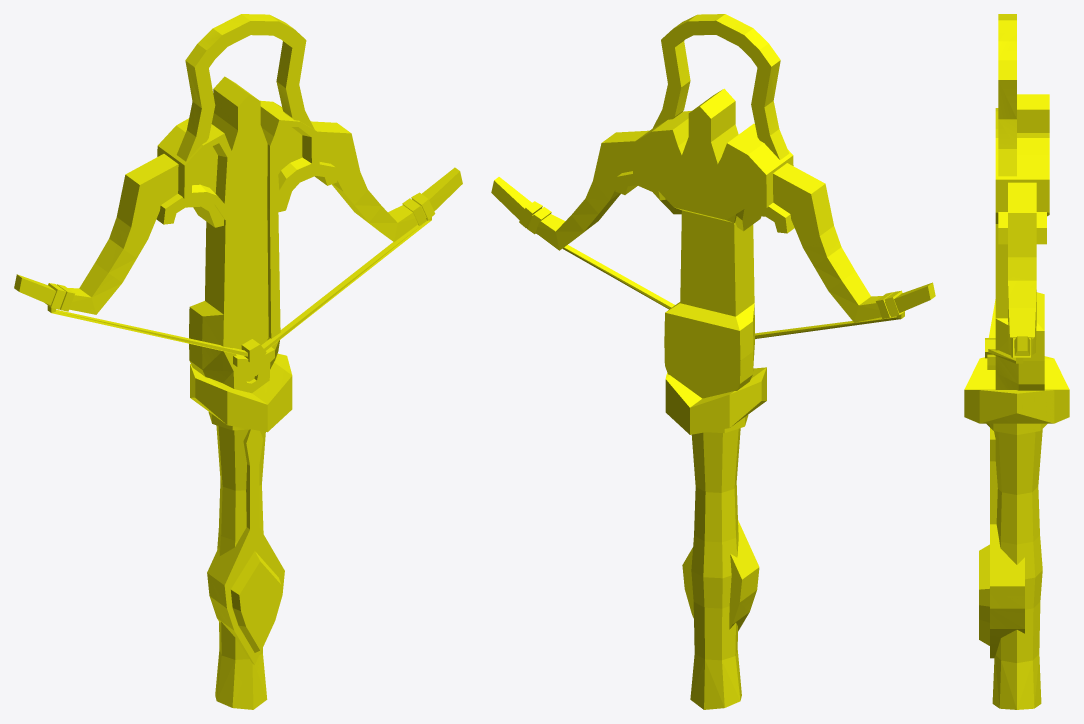
The model's file is _crossbow_3.glb.
3 renders of one model, left to right at view 1: azimuth 30°, elevation 25°; view 2: azimuth 150°, elevation 25°; view 3: azimuth 270°, elevation 25°, orthographic.
Parts seen in each view (by area): view 1: crossbow_3; view 2: crossbow_3; view 3: crossbow_3.
Part boxes in pixels (<box>): crossbow_3: <box>14,14,462,709</box>; crossbow_3: <box>491,14,935,709</box>; crossbow_3: <box>964,14,1069,709</box>.
Size of the model in its own units: 0.6382 by 0.9443 by 0.132.
1 material, 1 textured.
